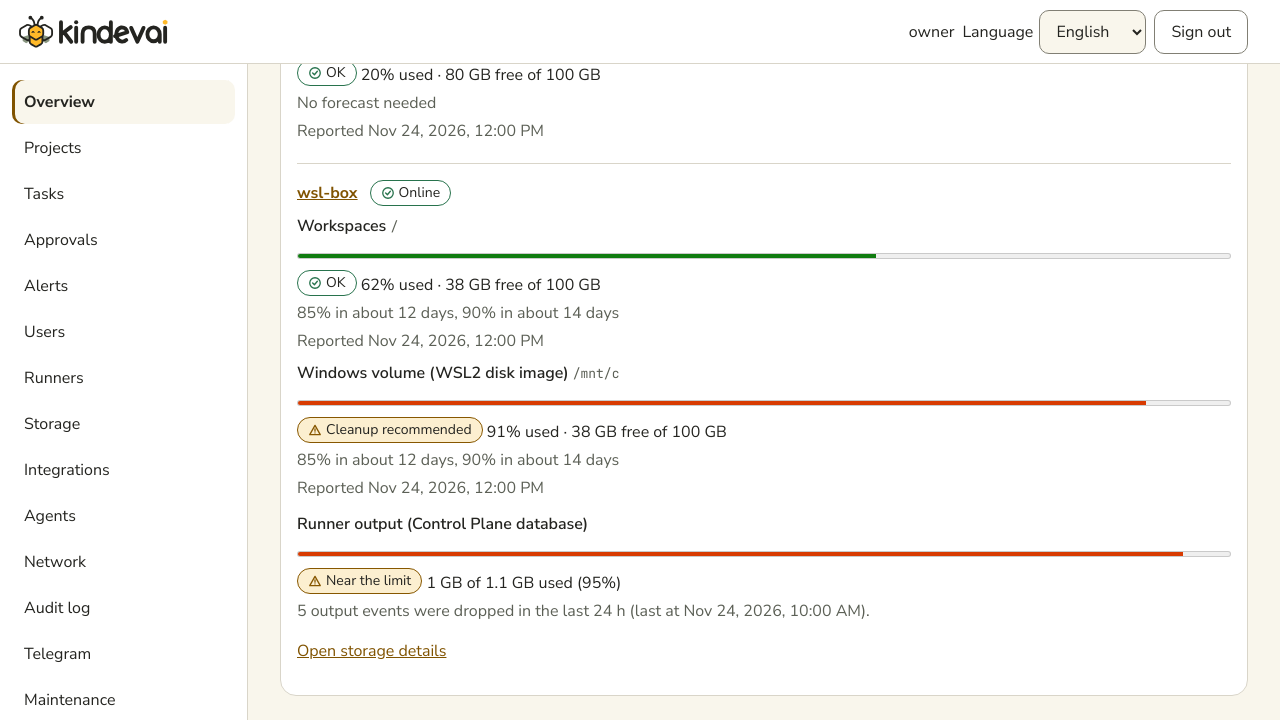
Scenario: Infrastructure → Storage page › is linked from the Storage card on the overview
(page scrolled)
Click the link "Open storage details".
click(372, 651)  # box [297,640,446,662]
(page scrolled)
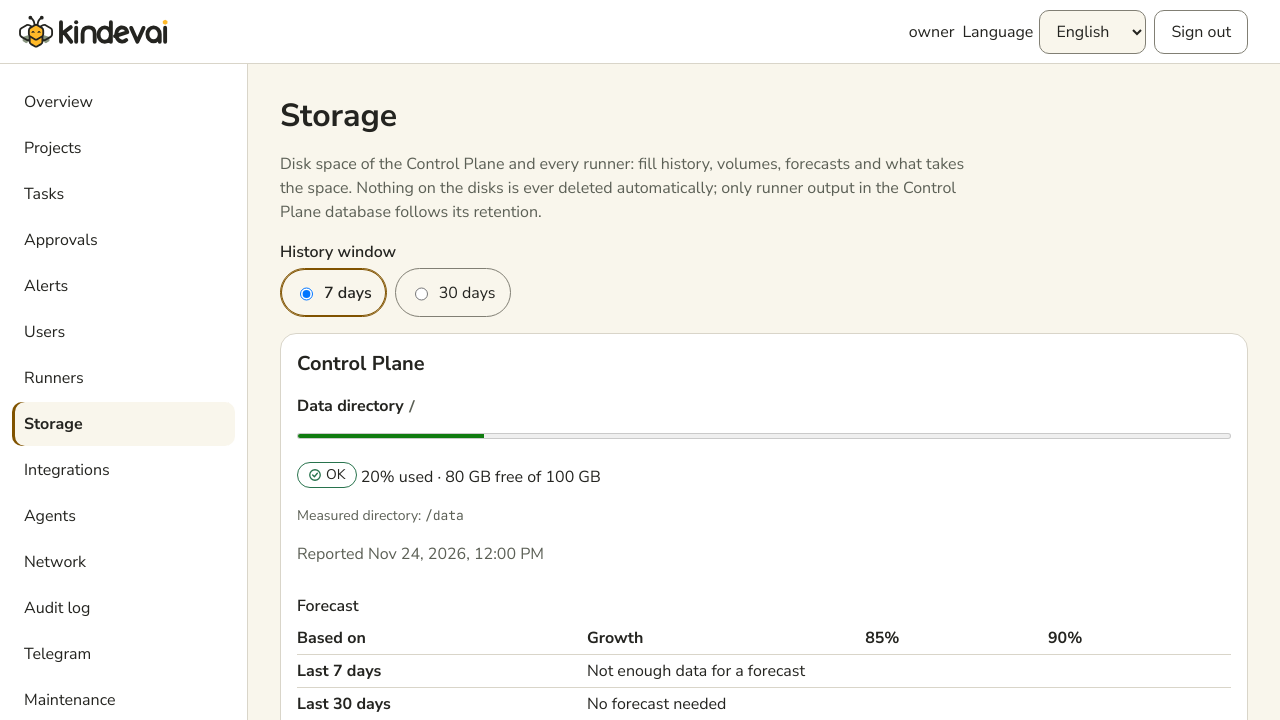
Check: the heading "Storage" is shown, box [280,94,397,137]
